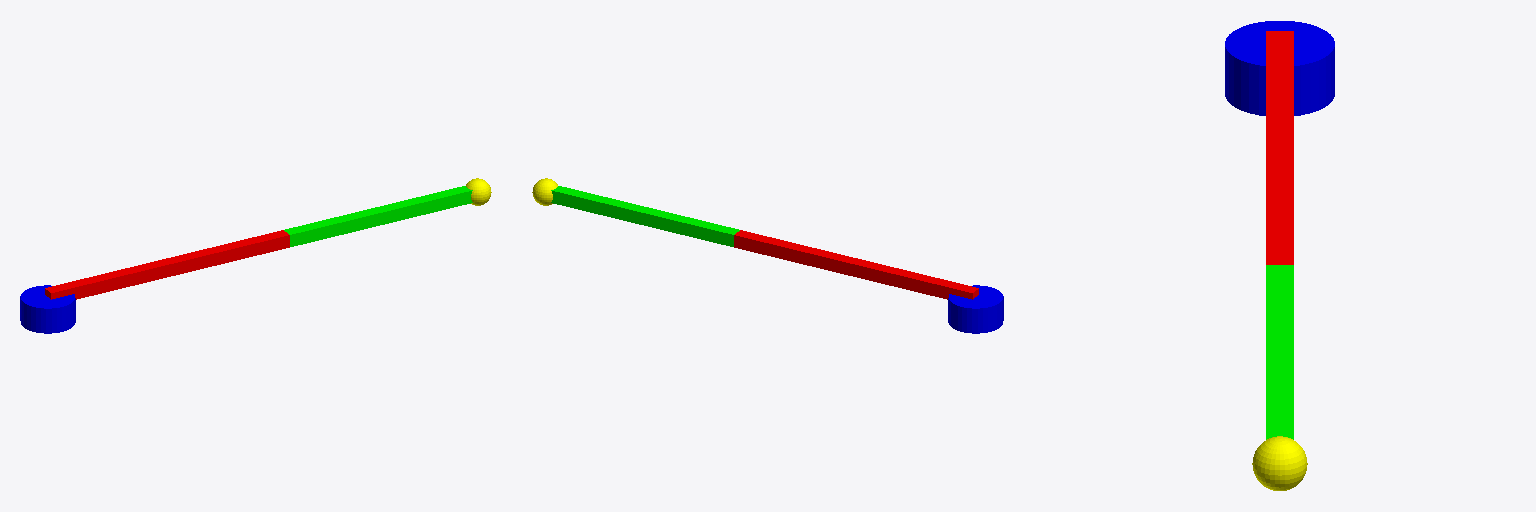
URDF robot description (two_dof_arm):
<?xml version="1.0"?>
<robot name="two_dof_arm">
  
  <!-- Base Link  -->
  <link name="base_link">
    <visual>
      <geometry>
        <cylinder length="0.1" radius="0.1"/>
      </geometry>
      <origin xyz="0 0 0.05" rpy="0 0 0"/>
      <material name="blue">
        <color rgba="0 0 1 1"/>
      </material>
    </visual>
    <collision>
      <geometry>
        <cylinder length="0.1" radius="0.1"/>
      </geometry>
      <origin xyz="0 0 0.05" rpy="0 0 0"/>
    </collision>
  </link>

  <!-- Joint 1 -->
  <joint name="joint1" type="revolute">
    <parent link="base_link"/>
    <child link="link1"/>
    <origin xyz="0 0 0.1" rpy="0 0 0"/>
    <axis xyz="0 0 1"/>
    <limit lower="-3.14159" upper="3.14159" effort="10" velocity="1"/>
  </joint>

  <!-- Link 1 -->
  <link name="link1">
    <visual>
      <geometry>
        <box size="1.0 0.05 0.05"/>
      </geometry>
      <origin xyz="0.5 0 0" rpy="0 0 0"/>
      <material name="red">
        <color rgba="1 0 0 1"/>
      </material>
    </visual>
    <collision>
      <geometry>
        <box size="1.0 0.05 0.05"/>
      </geometry>
      <origin xyz="0.5 0 0" rpy="0 0 0"/>
    </collision>
  </link>

  <!-- Joint 2  -->
  <joint name="joint2" type="revolute">
    <parent link="link1"/>
    <child link="link2"/>
    <origin xyz="1.0 0 0" rpy="0 0 0"/>
    <axis xyz="0 0 1"/>
    <limit lower="-3.14159" upper="3.14159" effort="10" velocity="1"/>
  </joint>

  <!-- Link 2-->
  <link name="link2">
    <visual>
      <geometry>
        <box size="0.8 0.05 0.05"/>
      </geometry>
      <origin xyz="0.4 0 0" rpy="0 0 0"/>
      <material name="green">
        <color rgba="0 1 0 1"/>
      </material>
    </visual>
    <collision>
      <geometry>
        <box size="0.8 0.05 0.05"/>
      </geometry>
      <origin xyz="0.4 0 0" rpy="0 0 0"/>
    </collision>
  </link>

  <!-- End Effector -->
  <joint name="joint_ee" type="fixed">
    <parent link="link2"/>
    <child link="end_effector"/>
    <origin xyz="0.8 0 0" rpy="0 0 0"/>
  </joint>

  <link name="end_effector">
    <visual>
      <geometry>
        <sphere radius="0.05"/>
      </geometry>
      <material name="yellow">
        <color rgba="1 1 0 1"/>
      </material>
    </visual>
    <collision>
      <geometry>
        <sphere radius="0.05"/>
      </geometry>
    </collision>
  </link>

</robot>

--- Render facts (derived) ---
3 views of the same robot in one strip: view 1: azimuth 30°, elevation 25°; view 2: azimuth 150°, elevation 25°; view 3: azimuth 270°, elevation 25° (orthographic).
Robot: two_dof_arm — 4 links, 3 joints (2 revolute, 1 fixed); root link base_link; default pose: every joint at zero.
Links seen in each view (by area): view 1: link1, link2, base_link; view 2: link1, link2, base_link; view 3: base_link, link1, link2, end_effector.
Link boxes in pixels (left/top/right/bottom): link1: left=45, top=230, right=289, bottom=299; link2: left=284, top=186, right=472, bottom=246; base_link: left=20, top=285, right=75, bottom=333; link1: left=734, top=230, right=978, bottom=299; link2: left=551, top=186, right=739, bottom=246; base_link: left=948, top=285, right=1003, bottom=333; base_link: left=1225, top=21, right=1334, bottom=115; link1: left=1266, top=31, right=1293, bottom=264; link2: left=1266, top=265, right=1293, bottom=439; end_effector: left=1252, top=436, right=1307, bottom=490.
Bounding box of the posed robot: 1.95 × 0.2 × 0.15 m (x, y, z).
Geometry: primitives only (box / cylinder / sphere), no mesh files.